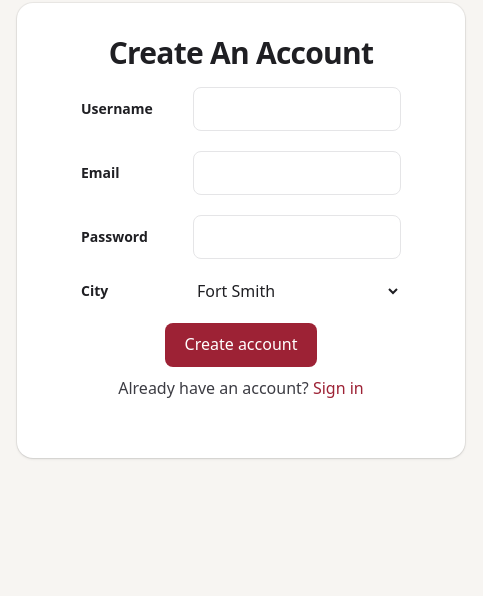
Test case: register shows the password error from the backend
In the field labelled "Username": point(297, 109) [193,87,401,131], type "sam"
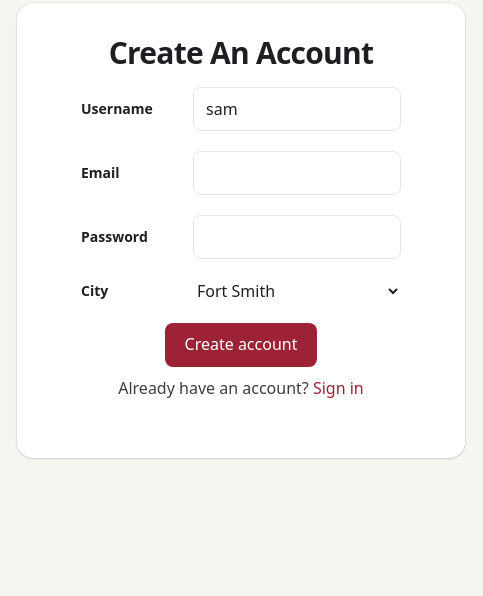
In the field labelled "Email": point(297, 173) [193,151,401,195], type "sam@test.com"
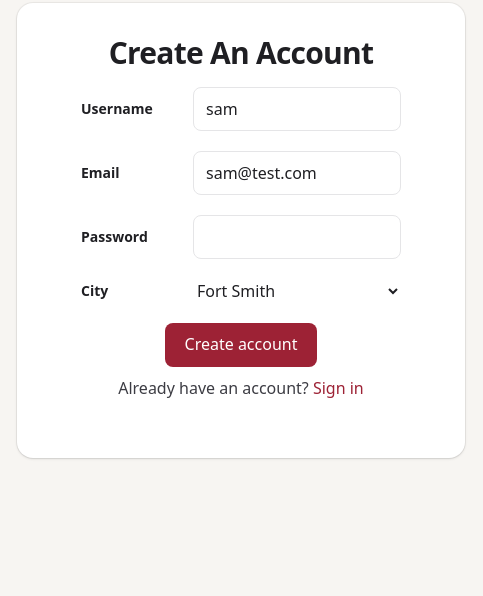
In the password field labelled "Password": point(297, 237) [193,215,401,259], type "abc"
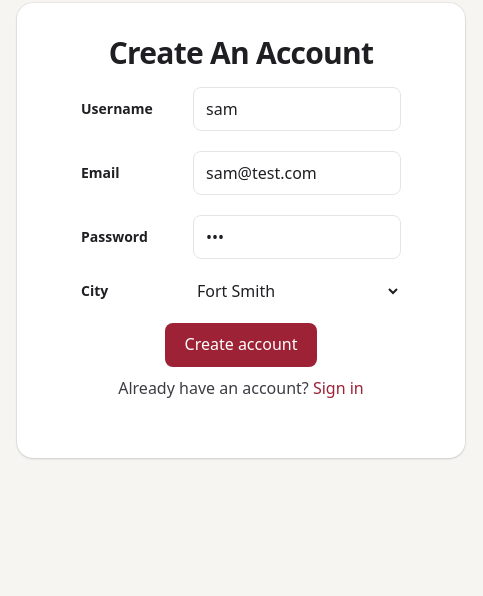
Click the button "Create account": point(241, 345) [164,323,317,367]
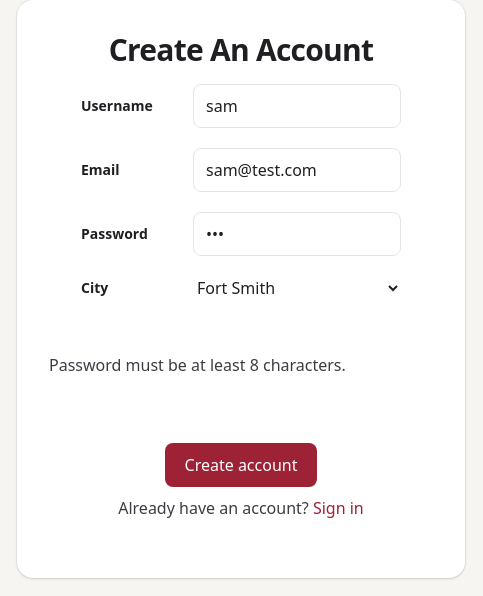
Now the text "Password must be at least 8 characters." is shown, box [49,354,346,376]
